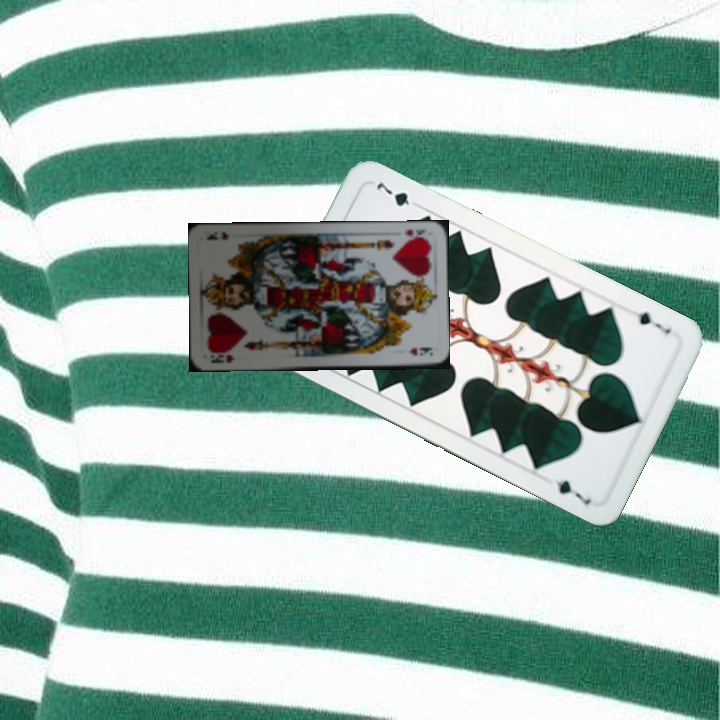G7: (633, 307, 674, 337)
HK: (401, 225, 431, 243), (206, 351, 237, 366)
